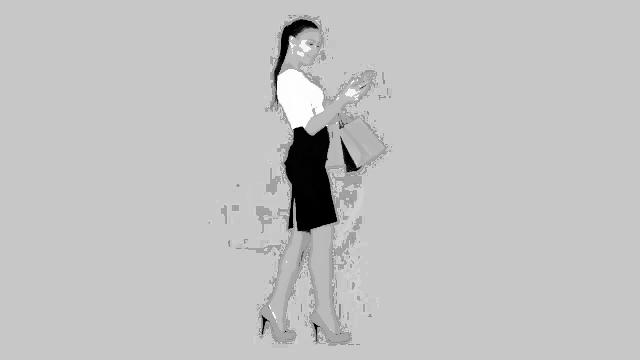berjalan: (262, 8, 372, 346)
